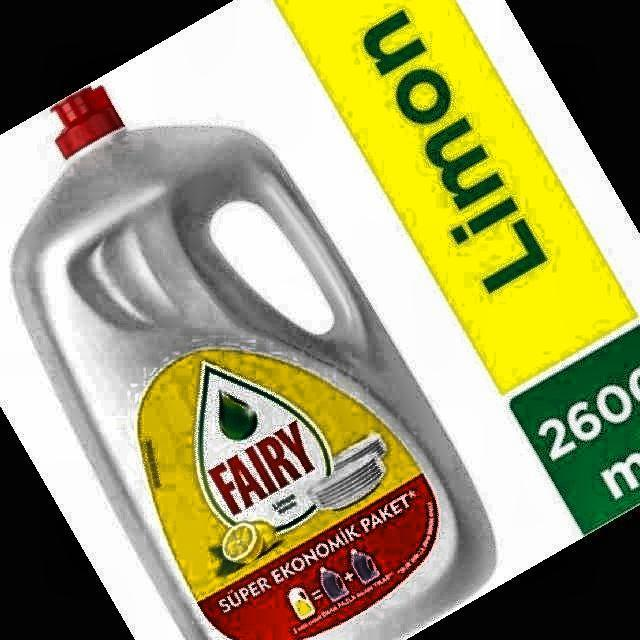plastic: (12, 90, 495, 640)
